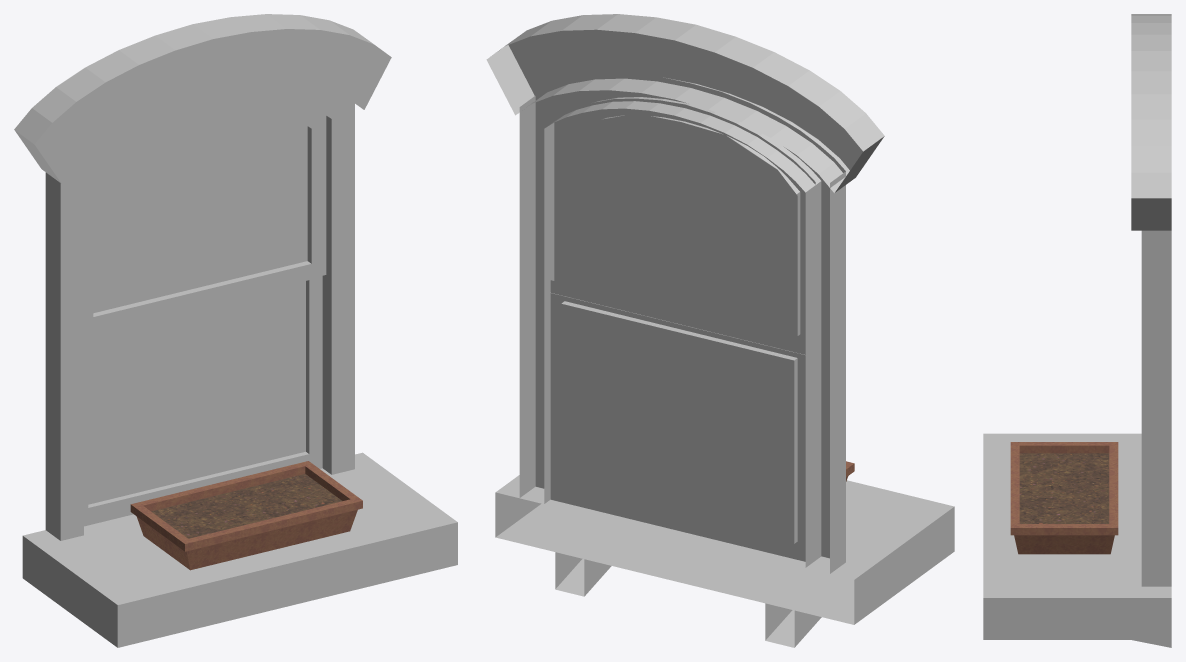
Rendered from sb_obj_outdoor028_window05.fbx.
3 views of the same model, side by side, from view 1: azimuth 30°, elevation 25°; view 2: azimuth 150°, elevation 25°; view 3: azimuth 270°, elevation 25° (orthographic). The views are drawn at different scales.
Visible parts, largest first — view 1: sb_obj_outdoor028_window05_low.001, sb_obj_outdoor028_window_planter_05; view 2: sb_obj_outdoor028_window05_low.001; view 3: sb_obj_outdoor028_window05_low.001, sb_obj_outdoor028_window_planter_05.
Part boxes in pixels (<box>): sb_obj_outdoor028_window05_low.001: <box>14,14,457,647</box>; sb_obj_outdoor028_window_planter_05: <box>130,461,362,570</box>; sb_obj_outdoor028_window05_low.001: <box>486,14,954,647</box>; sb_obj_outdoor028_window05_low.001: <box>983,14,1171,647</box>; sb_obj_outdoor028_window_planter_05: <box>1010,442,1118,554</box>.
Bounding box in the file's own units: 0.9907 × 1.45 × 0.4568.
